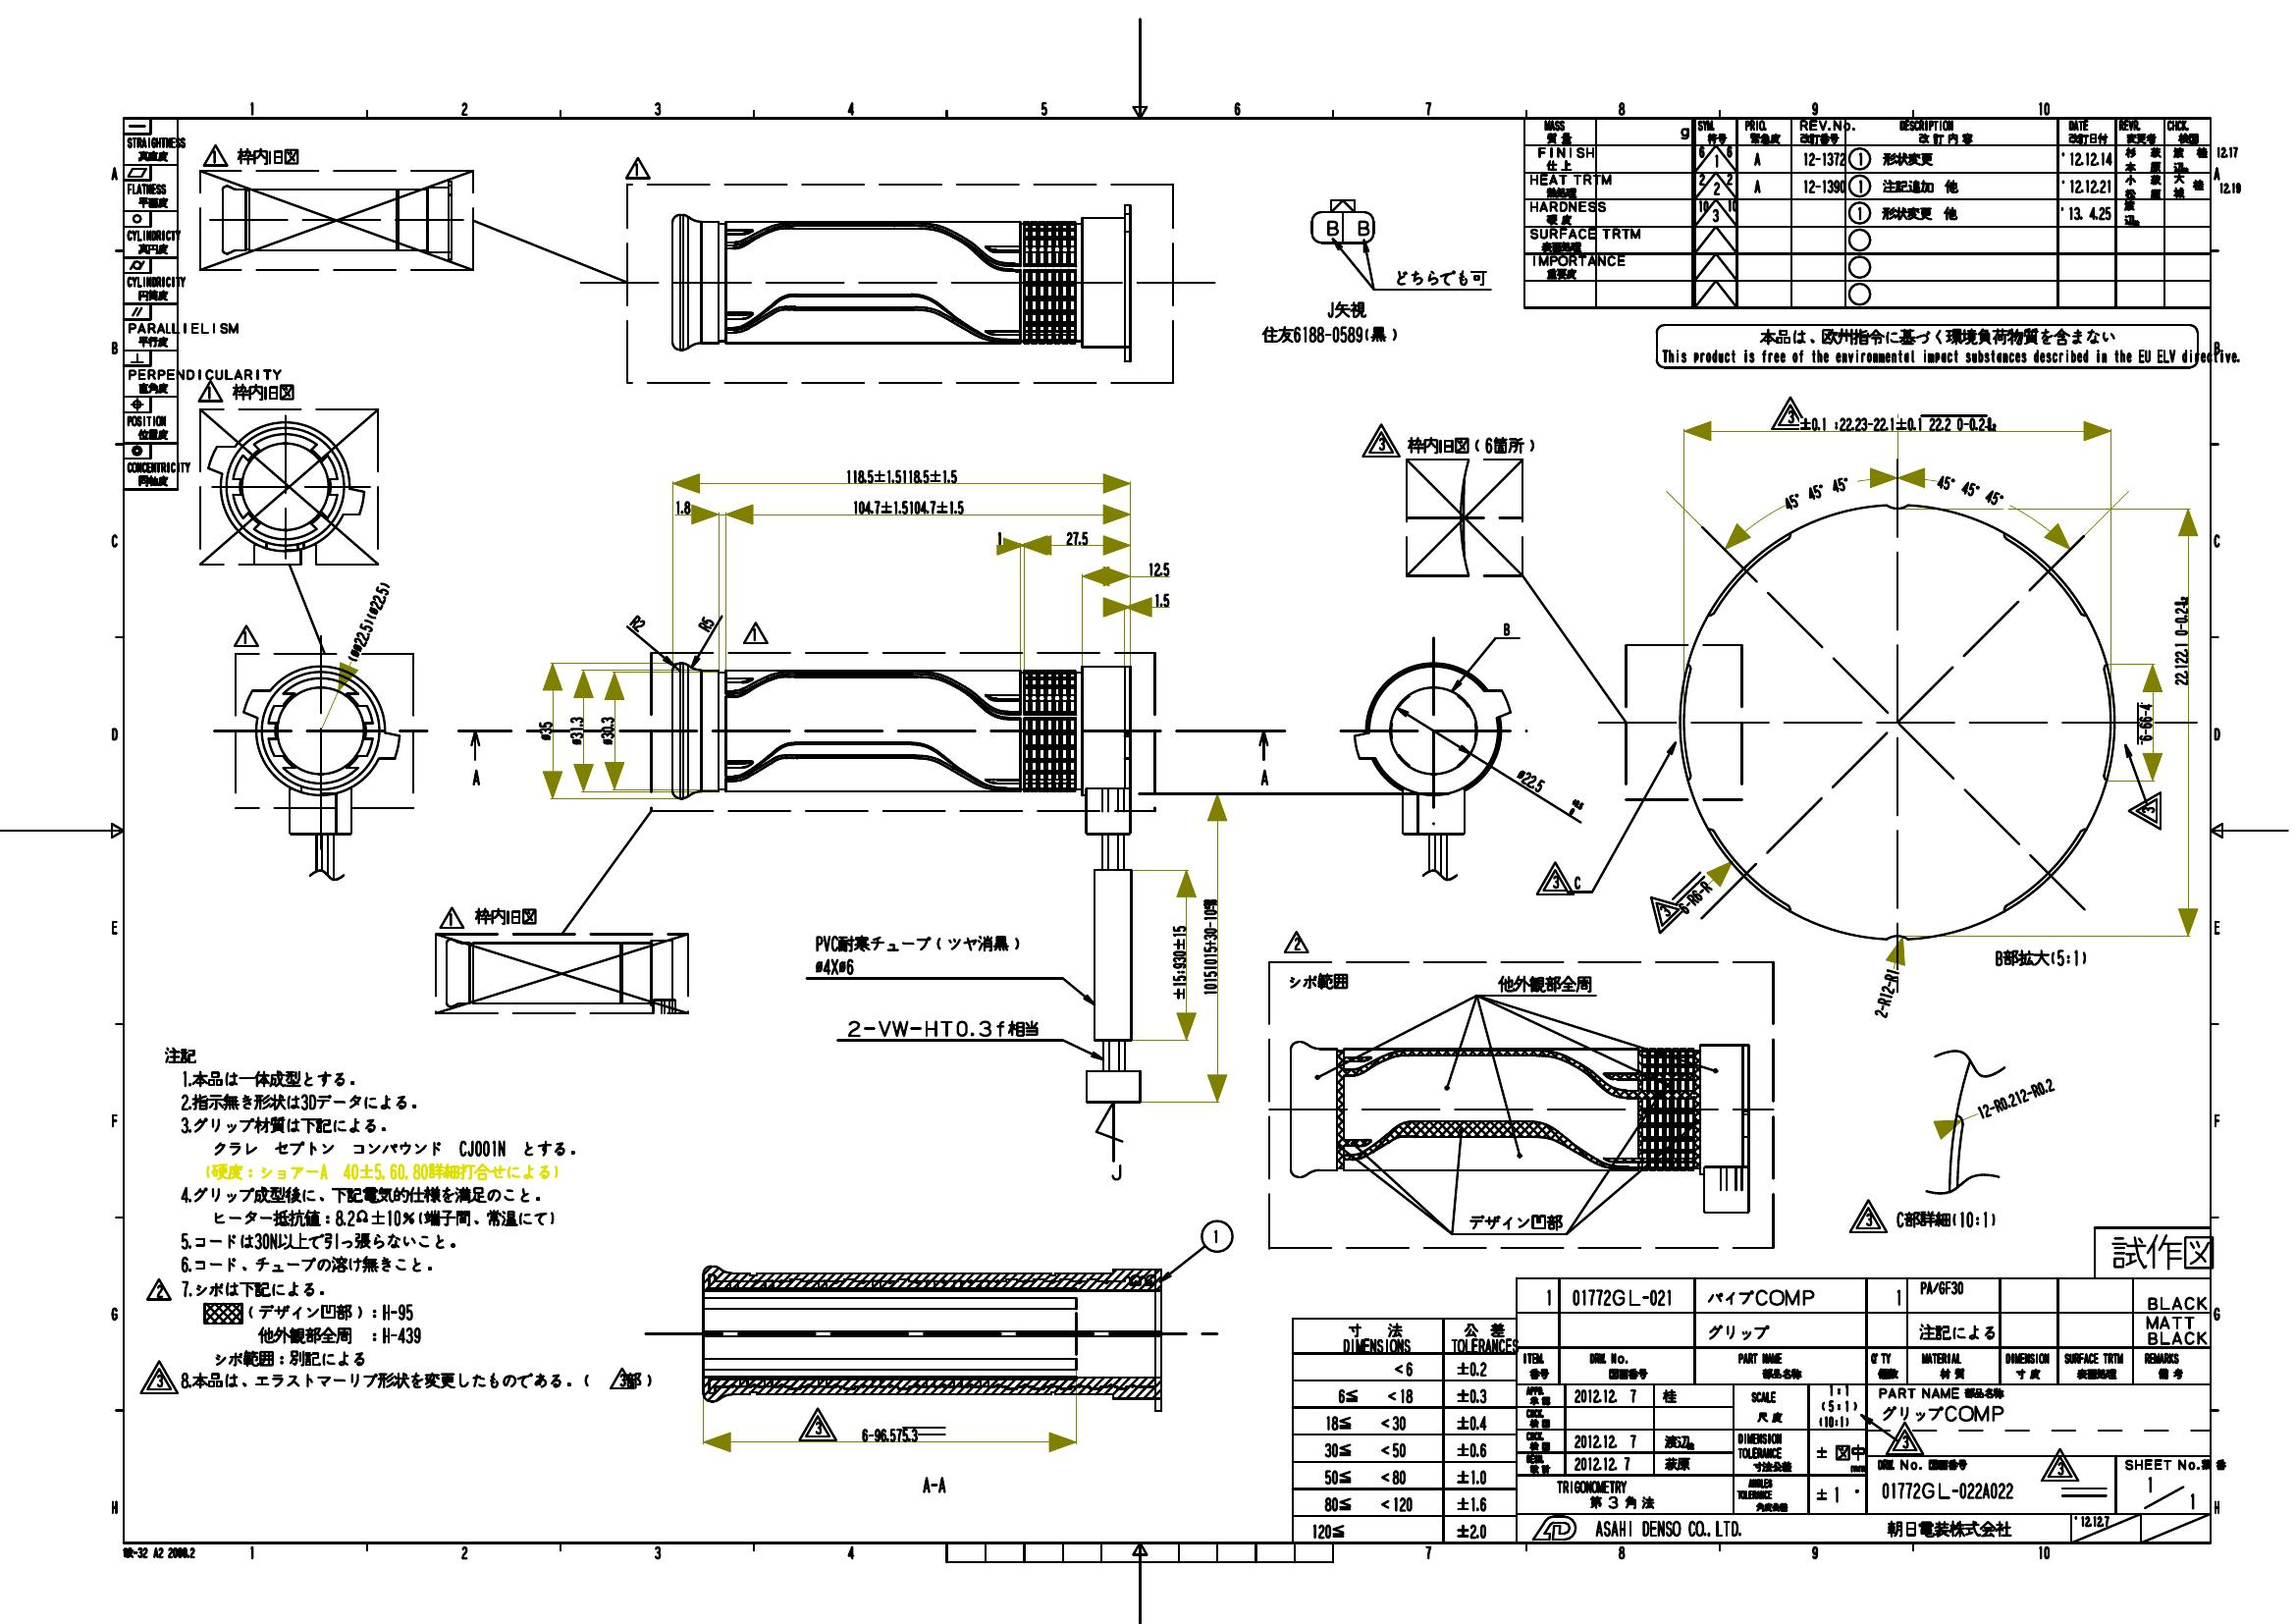anntotation_text: (144, 1040, 659, 1394), (1655, 323, 2198, 367), (812, 930, 1022, 975), (1258, 297, 1407, 348), (1363, 422, 1541, 459), (2094, 1227, 2213, 1278), (1848, 1197, 1996, 1237), (845, 1018, 1043, 1037), (202, 142, 302, 169), (197, 380, 299, 404), (437, 909, 548, 930), (1990, 949, 2090, 970), (1497, 972, 1592, 993), (1391, 269, 1493, 288), (1467, 1213, 1563, 1232), (1535, 861, 1585, 893), (798, 1408, 838, 1441), (2127, 793, 2162, 830), (1769, 397, 1806, 429), (1288, 972, 1351, 990), (1200, 1220, 1231, 1253), (1646, 893, 1676, 926), (121, 1545, 199, 1557), (228, 620, 256, 649), (622, 155, 650, 181), (740, 620, 768, 647), (1282, 930, 1309, 953), (921, 1475, 950, 1492), (1254, 768, 1274, 789), (466, 765, 483, 786), (1107, 1162, 1124, 1178), (1356, 216, 1370, 236), (1500, 620, 1516, 636), (1326, 218, 1339, 236)
dimension_text: (1799, 417, 1999, 431), (841, 466, 961, 483), (850, 497, 970, 515), (1200, 893, 1217, 995), (1507, 780, 1592, 800), (2173, 596, 2189, 687), (1971, 1091, 2061, 1107), (1172, 919, 1188, 1000), (362, 578, 376, 664), (1780, 485, 1853, 499), (1936, 482, 2004, 496), (1880, 968, 1897, 1016), (859, 1427, 917, 1441), (2138, 698, 2152, 745), (597, 714, 613, 747), (1676, 889, 1713, 902), (569, 714, 583, 743), (1063, 531, 1091, 545), (1147, 559, 1172, 575), (697, 613, 713, 633), (538, 719, 552, 740), (629, 613, 645, 631), (675, 497, 690, 513), (1154, 591, 1170, 606), (993, 531, 1003, 547)
object: (673, 661, 1142, 1102), (1681, 506, 2115, 940), (1289, 1039, 1750, 1211), (671, 204, 1131, 362), (703, 1262, 1159, 1410), (241, 666, 399, 881), (1354, 663, 1509, 879), (207, 422, 364, 552), (221, 179, 451, 262), (444, 939, 673, 1007), (1925, 1049, 2006, 1193), (1307, 199, 1375, 244), (1458, 457, 1469, 576)
title_block: (1293, 1278, 2210, 1541), (1525, 120, 2208, 308), (125, 118, 179, 490)
